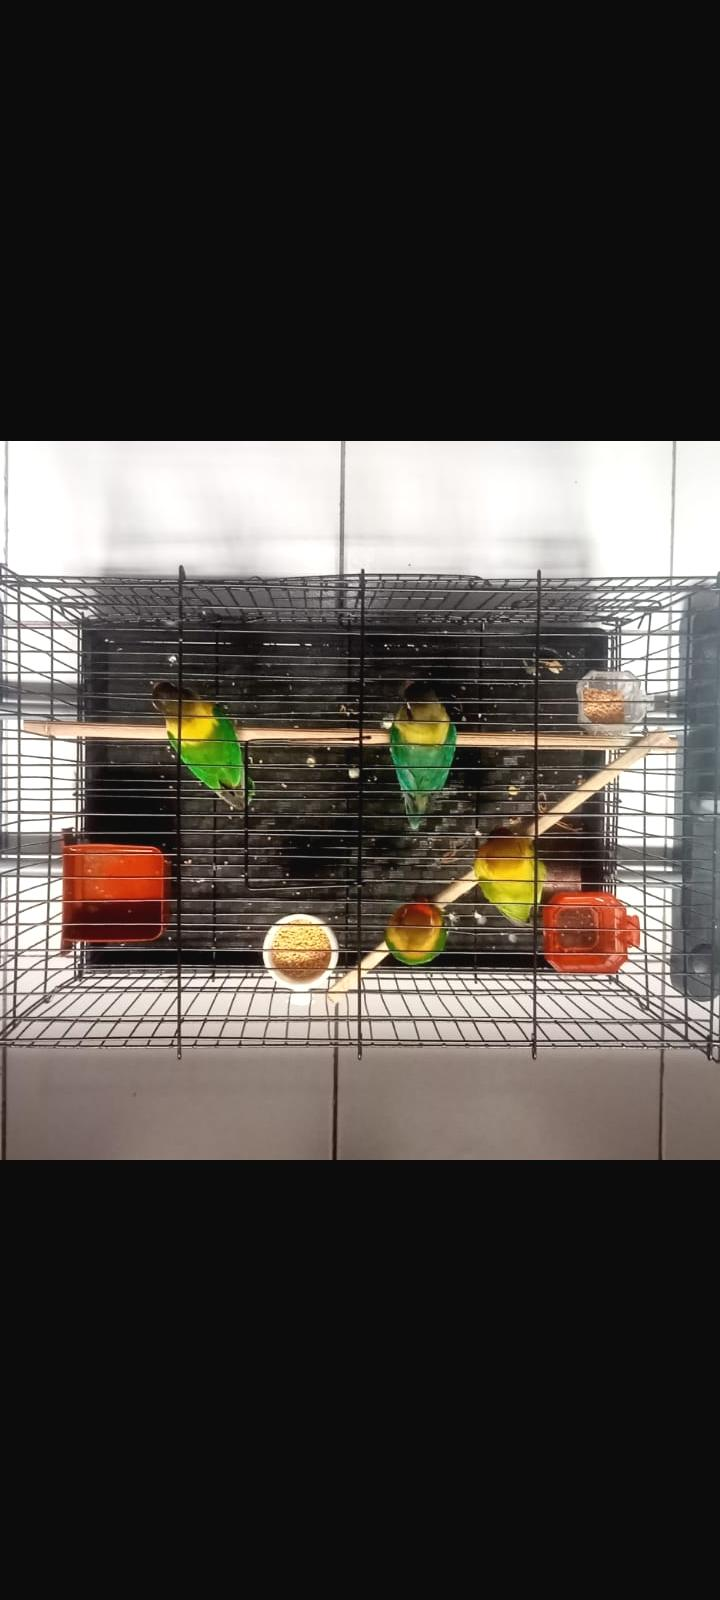LoveBird: (150, 680, 255, 808), (391, 680, 456, 829), (474, 827, 545, 927), (385, 901, 448, 964)
